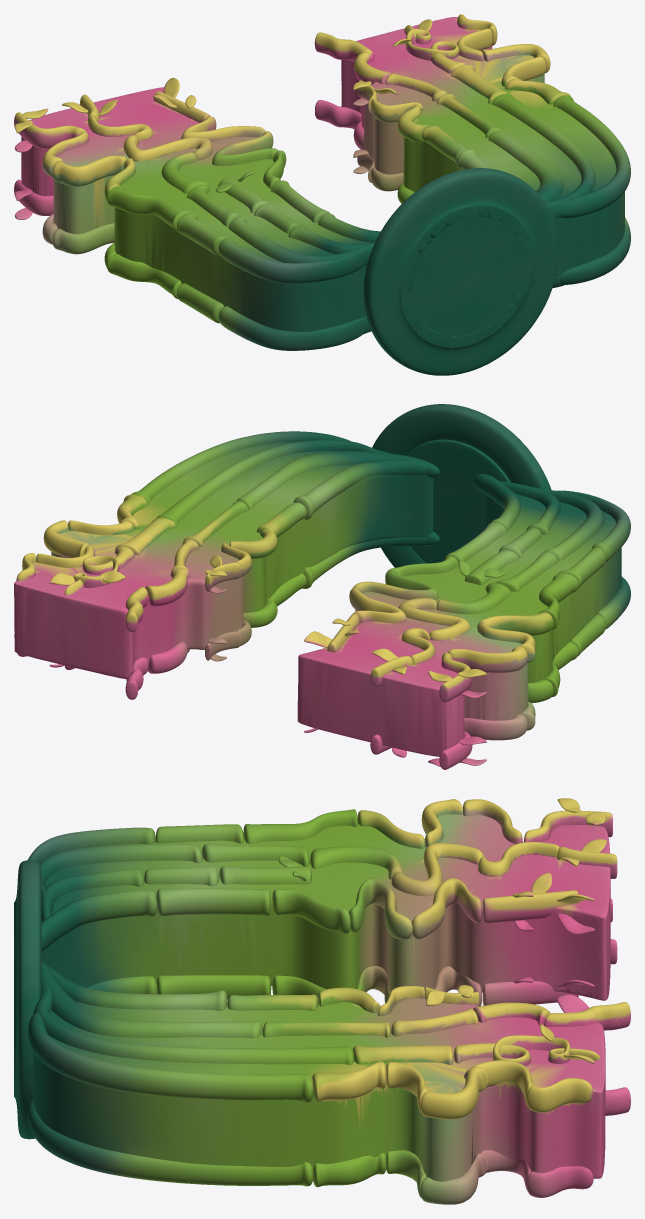
The picture shows the model from 3 angles, top to bottom: view 1: azimuth 30°, elevation 25°; view 2: azimuth 150°, elevation 25°; view 3: azimuth 270°, elevation 25°; orthographic projection. The views are drawn at different scales.
Parts seen in each view (by area): view 1: LOD 2_11715679123741618527_7772d8143698c4b469892684d4d44774; view 2: LOD 2_11715679123741618527_7772d8143698c4b469892684d4d44774; view 3: LOD 2_11715679123741618527_7772d8143698c4b469892684d4d44774.
Part boxes in pixels (left/top/right/bottom): LOD 2_11715679123741618527_7772d8143698c4b469892684d4d44774: left=14, top=14, right=630, bottom=375; LOD 2_11715679123741618527_7772d8143698c4b469892684d4d44774: left=14, top=404, right=630, bottom=769; LOD 2_11715679123741618527_7772d8143698c4b469892684d4d44774: left=14, top=798, right=630, bottom=1204.
Size of the model in its own units: 14.65 by 5.71 by 12.63.
